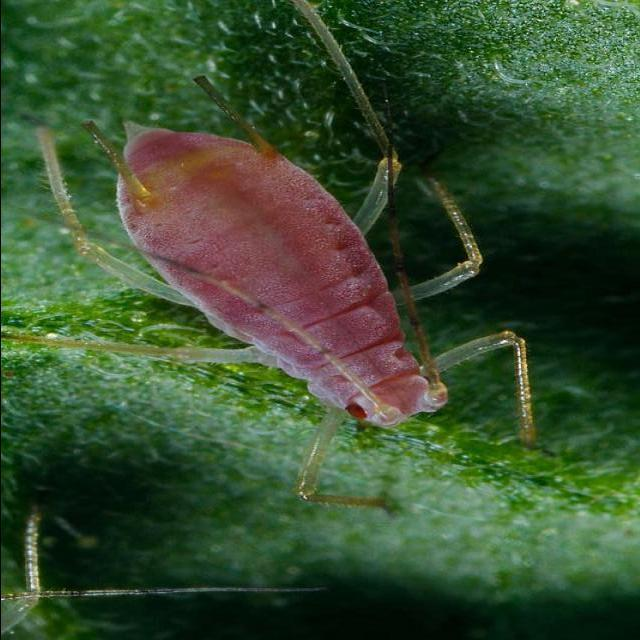aphid: (60, 53, 556, 532)
